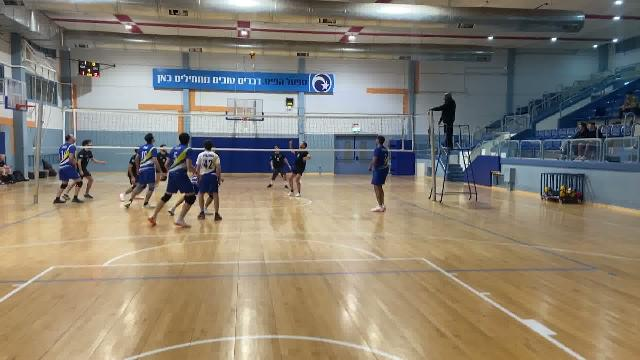ball: (248, 49, 257, 60)
